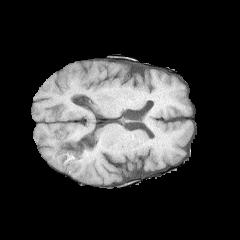glioma: (58, 143, 96, 176)
